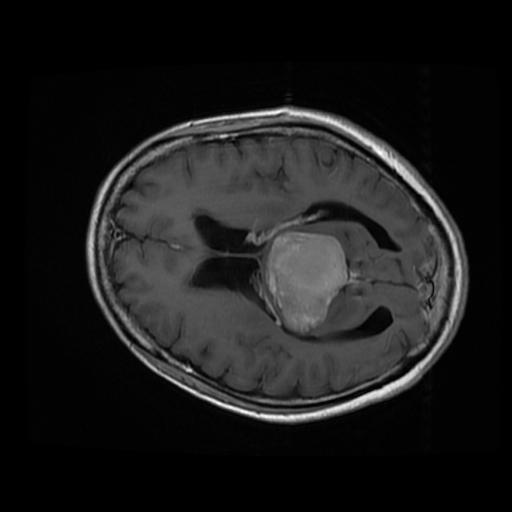meningioma: (266, 231, 348, 335)
